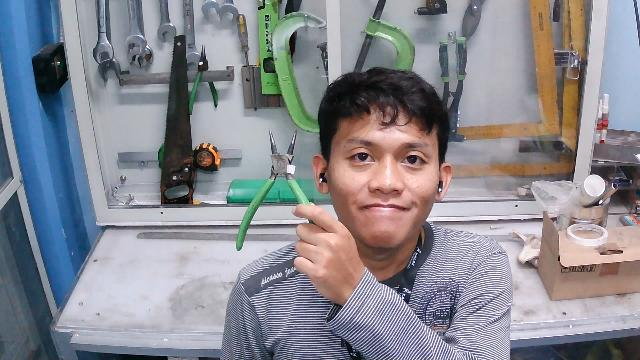tang_cucut_lancip_1: (235, 125, 318, 256)
